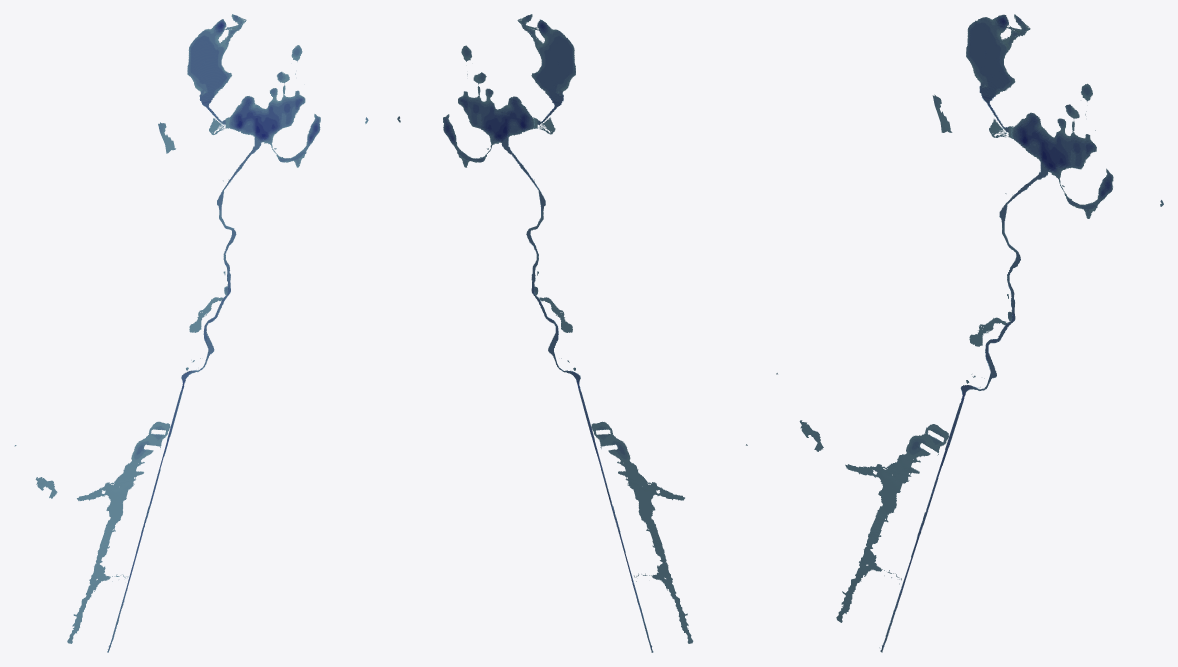
The model's file is triangle_mesh.glb.
The picture shows the model from 3 angles, left to right: view 1: azimuth 30°, elevation 25°; view 2: azimuth 150°, elevation 25°; view 3: azimuth 330°, elevation 25°; orthographic projection. The views are drawn at different scales.
Visible parts, largest first — view 1: world; view 2: world; view 3: world.
Boxes of the visible parts, x1=… form: world: x1=14, y1=14, x2=368, y2=652; world: x1=397, y1=14, x2=747, y2=652; world: x1=776, y1=14, x2=1163, y2=652.
Size of the model in its own units: 1658 by 2739 by 18.73.
